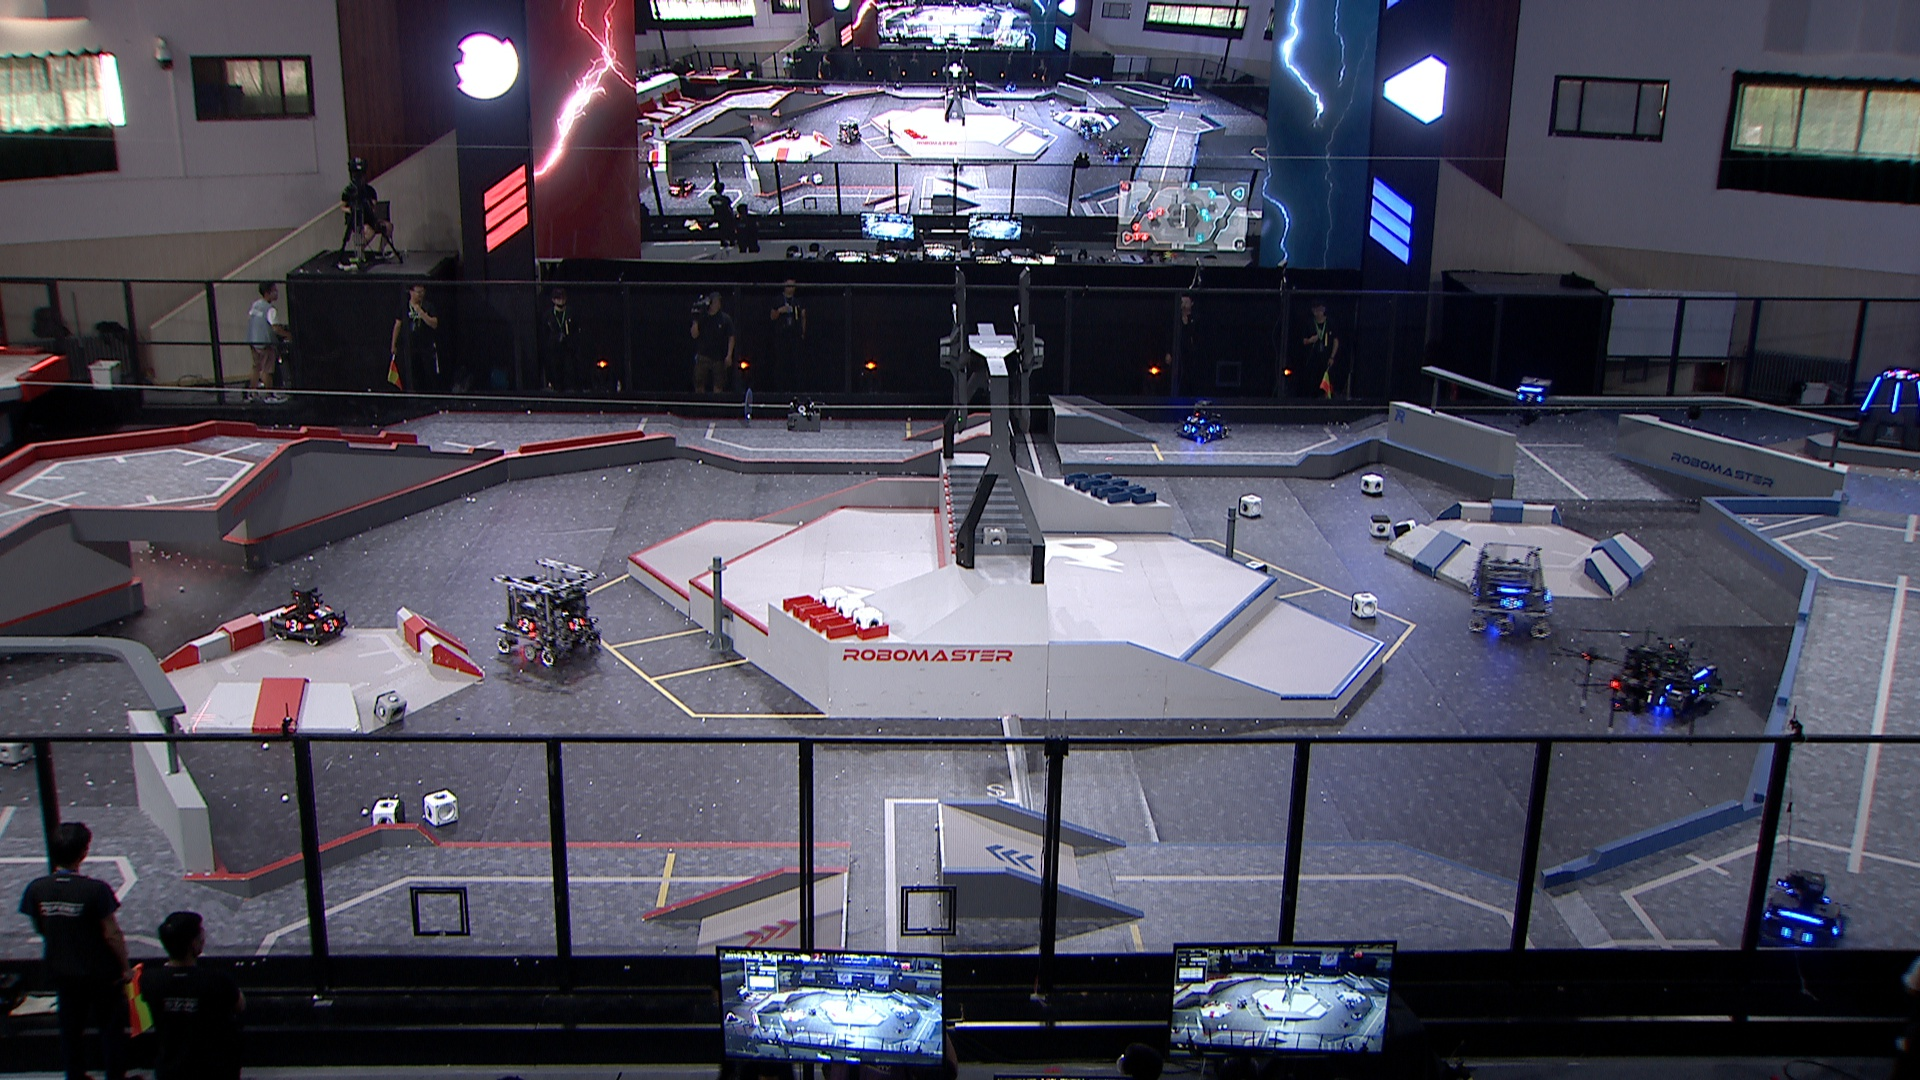armor: (1859, 375, 1883, 411), (1780, 924, 1817, 945), (1640, 688, 1667, 708), (1498, 593, 1523, 612), (305, 604, 334, 618), (1890, 382, 1902, 413), (1830, 916, 1846, 938), (1516, 392, 1543, 404), (567, 615, 588, 629), (282, 618, 305, 632), (320, 616, 338, 633), (516, 616, 533, 633), (1187, 414, 1205, 425), (1182, 423, 1196, 434), (1207, 425, 1222, 434)
base: (1840, 368, 1920, 452)
car: (487, 559, 604, 669), (1613, 633, 1722, 723), (1747, 868, 1855, 956), (1466, 537, 1557, 638), (266, 579, 351, 646), (1171, 398, 1232, 443)
ignore: (1077, 115, 1109, 142), (1164, 73, 1199, 96), (667, 173, 698, 199), (1102, 138, 1133, 162), (833, 121, 861, 144), (1884, 371, 1915, 381)
watcher: (1506, 373, 1553, 429)
